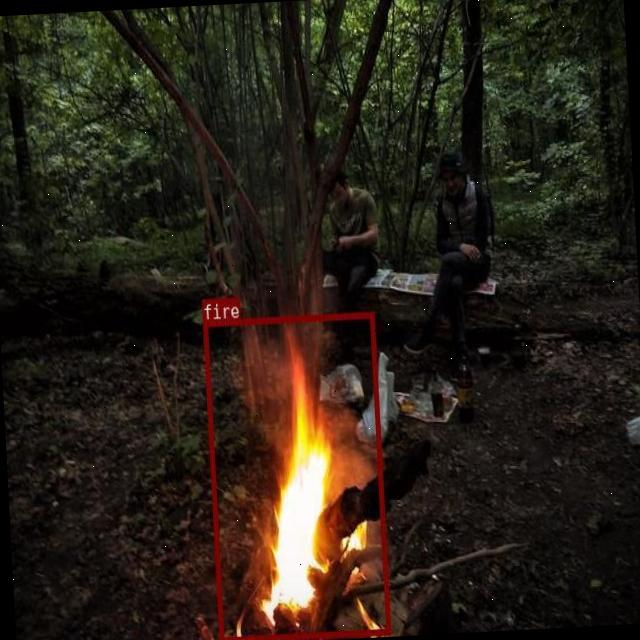fire: (202, 310, 390, 640)
